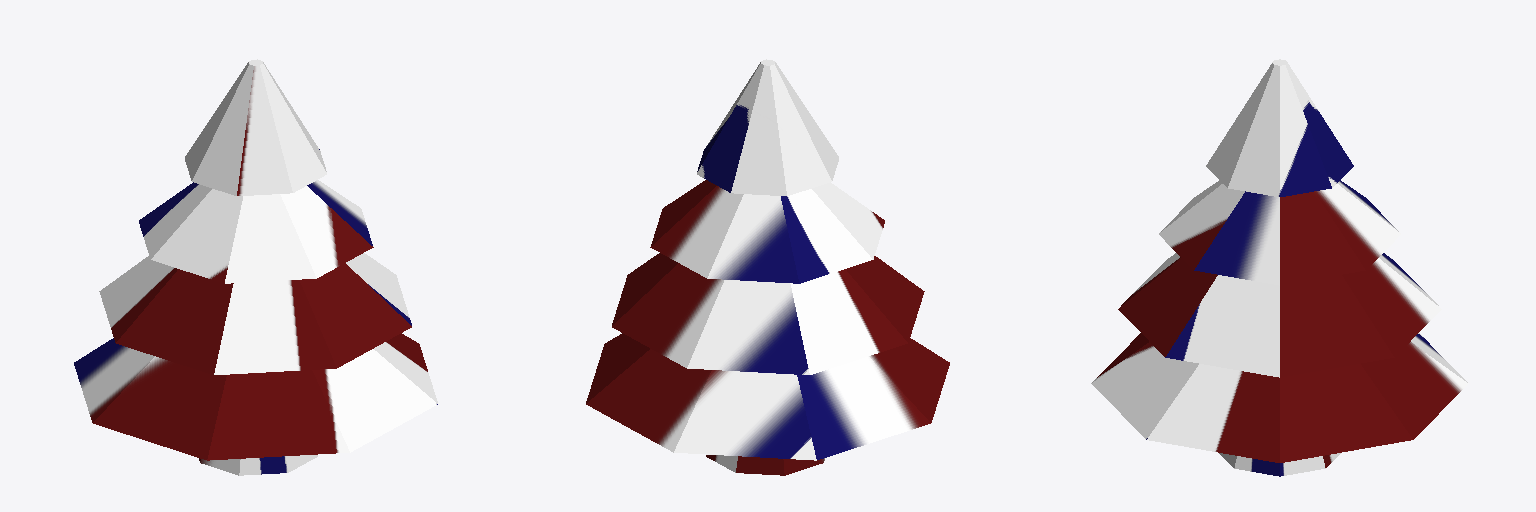
3 renders of one model, left to right at view 1: azimuth 30°, elevation 25°; view 2: azimuth 150°, elevation 25°; view 3: azimuth 270°, elevation 25°, orthographic.
Visible parts, largest first — view 1: Cube; view 2: Cube; view 3: Cube.
Part boxes in pixels (x1,y1,x2,y2): Cube: (74, 59, 437, 475); Cube: (586, 59, 949, 475); Cube: (1091, 59, 1468, 476).
Size of the model in its own units: 3.04 by 3.44 by 3.04.
Materials: 1 (1 with a texture image).